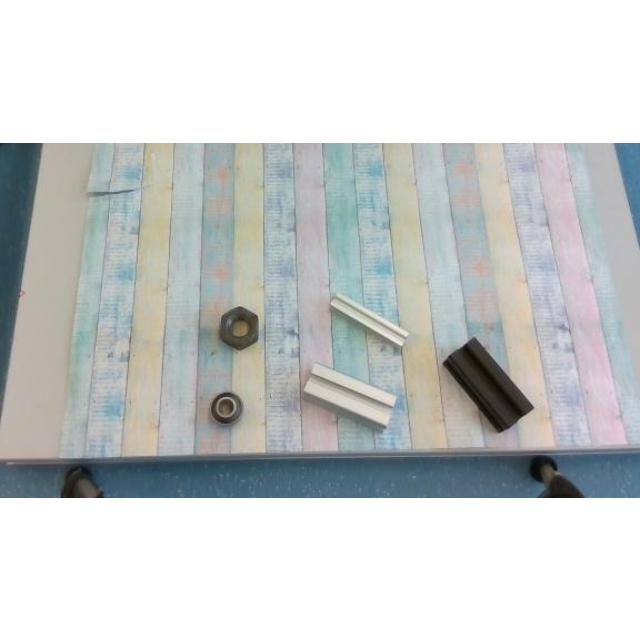Bearing2: (210, 391, 242, 423)
F20_20_G: (329, 292, 406, 346)
M30: (218, 306, 258, 348)
S40_40_B: (443, 337, 533, 431)
S40_40_G: (302, 362, 396, 426)
